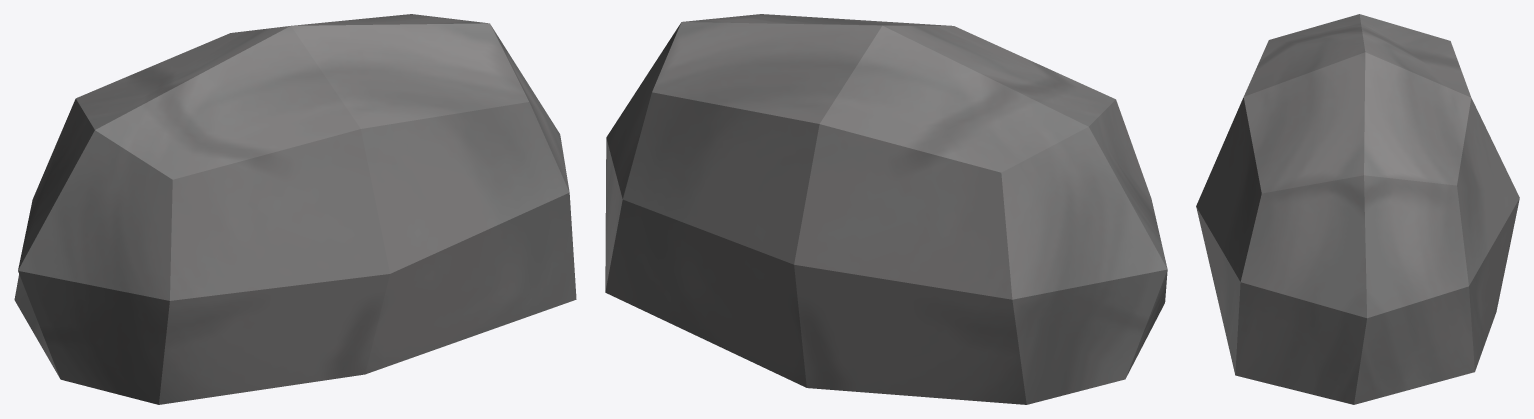
Rendered from stone-002-47.glb.
3 views of the same model, side by side, from view 1: azimuth 30°, elevation 25°; view 2: azimuth 150°, elevation 25°; view 3: azimuth 270°, elevation 25° (orthographic). The views are drawn at different scales.
Visible parts, largest first — view 1: stone.002_47; view 2: stone.002_47; view 3: stone.002_47.
Part boxes in pixels (x1,y1,x2,y2): stone.002_47: (14, 14, 576, 404); stone.002_47: (605, 14, 1167, 404); stone.002_47: (1196, 14, 1519, 404).
Size of the model in its own units: 9.92 by 5.29 by 5.87.
Materials: 1 (1 with a texture image).
